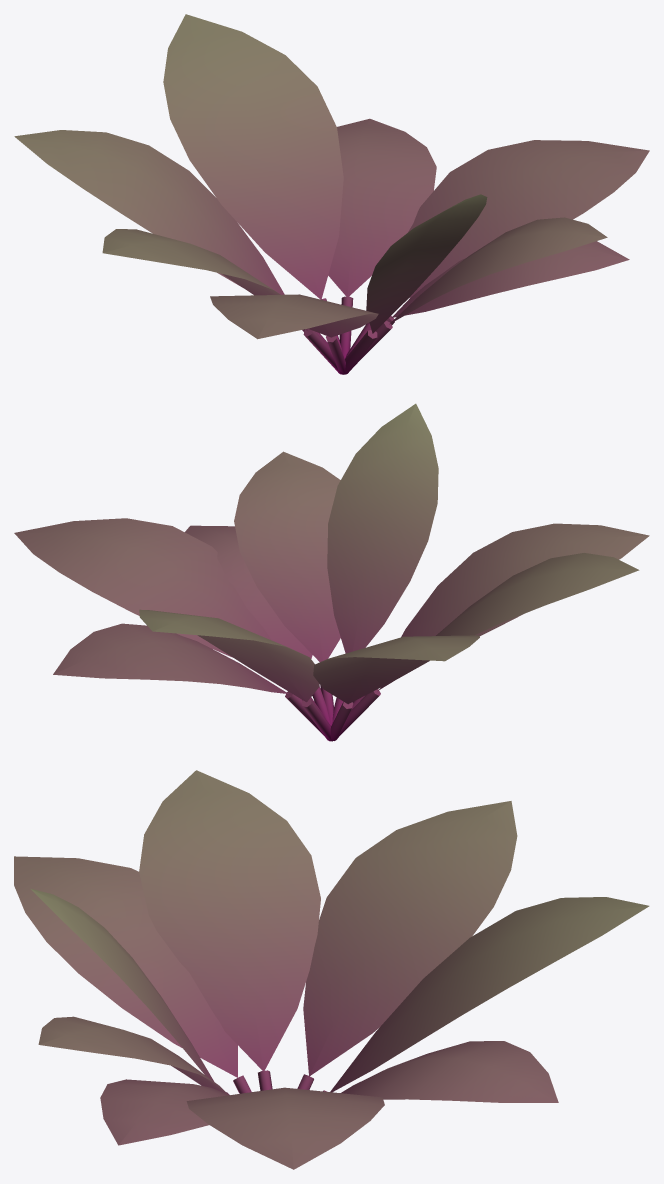
Rendered from broadleaf_02.glb.
3 renders of one model, top to bottom at view 1: azimuth 30°, elevation 25°; view 2: azimuth 150°, elevation 25°; view 3: azimuth 270°, elevation 25°, orthographic. The views are drawn at different scales.
Visible parts, largest first — view 1: broadleaf_02; view 2: broadleaf_02; view 3: broadleaf_02.
Part boxes in pixels (x1,y1,x2,y2): broadleaf_02: [14, 14, 649, 374]; broadleaf_02: [14, 403, 649, 741]; broadleaf_02: [14, 770, 649, 1169].
Bounding box in the file's own units: 1.43 × 0.5869 × 1.21.
